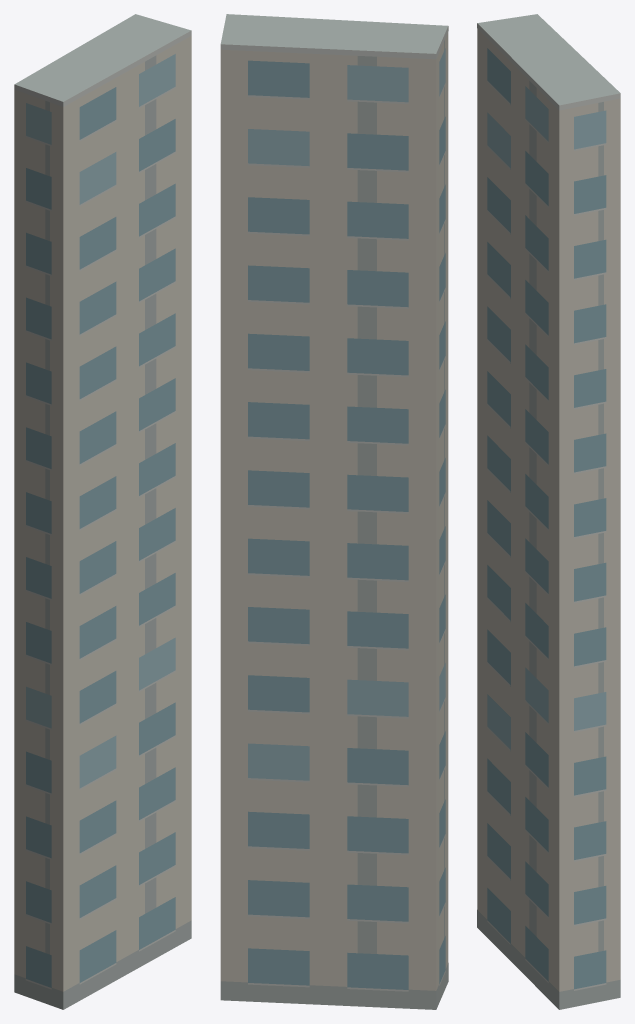
The model's file is survey-upis-32473973.glb.
The picture shows the model from 3 angles, left to right: view 1: azimuth 30°, elevation 25°; view 2: azimuth 150°, elevation 25°; view 3: azimuth 270°, elevation 25°; orthographic projection. The views are drawn at different scales.
Visible parts, largest first — view 1: survey-upis-32473973.tmp; view 2: survey-upis-32473973.tmp; view 3: survey-upis-32473973.tmp.
Boxes of the visible parts, <box> form: survey-upis-32473973.tmp: <box>14,14,191,1009</box>; survey-upis-32473973.tmp: <box>220,14,448,1009</box>; survey-upis-32473973.tmp: <box>477,14,620,1009</box>.
Size of the model in its own units: 9.27 by 42.7 by 6.15.
